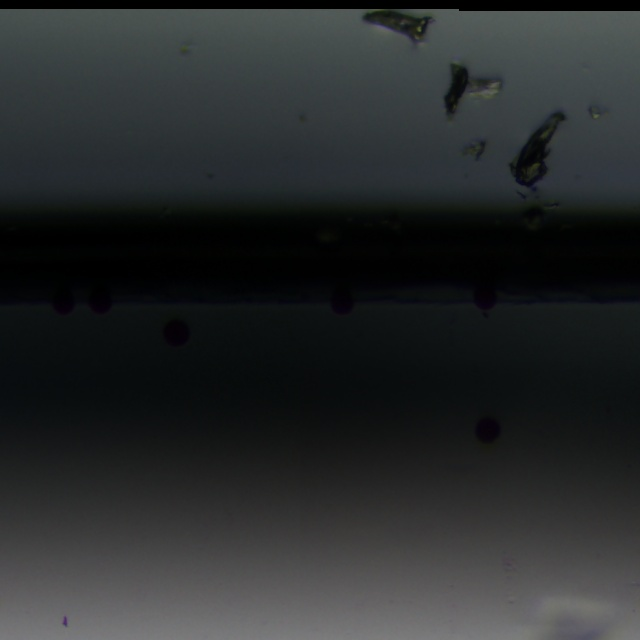viable: (164, 320, 190, 346), (475, 287, 496, 317), (476, 418, 500, 443), (331, 288, 353, 314), (89, 289, 111, 314), (53, 294, 74, 314)
